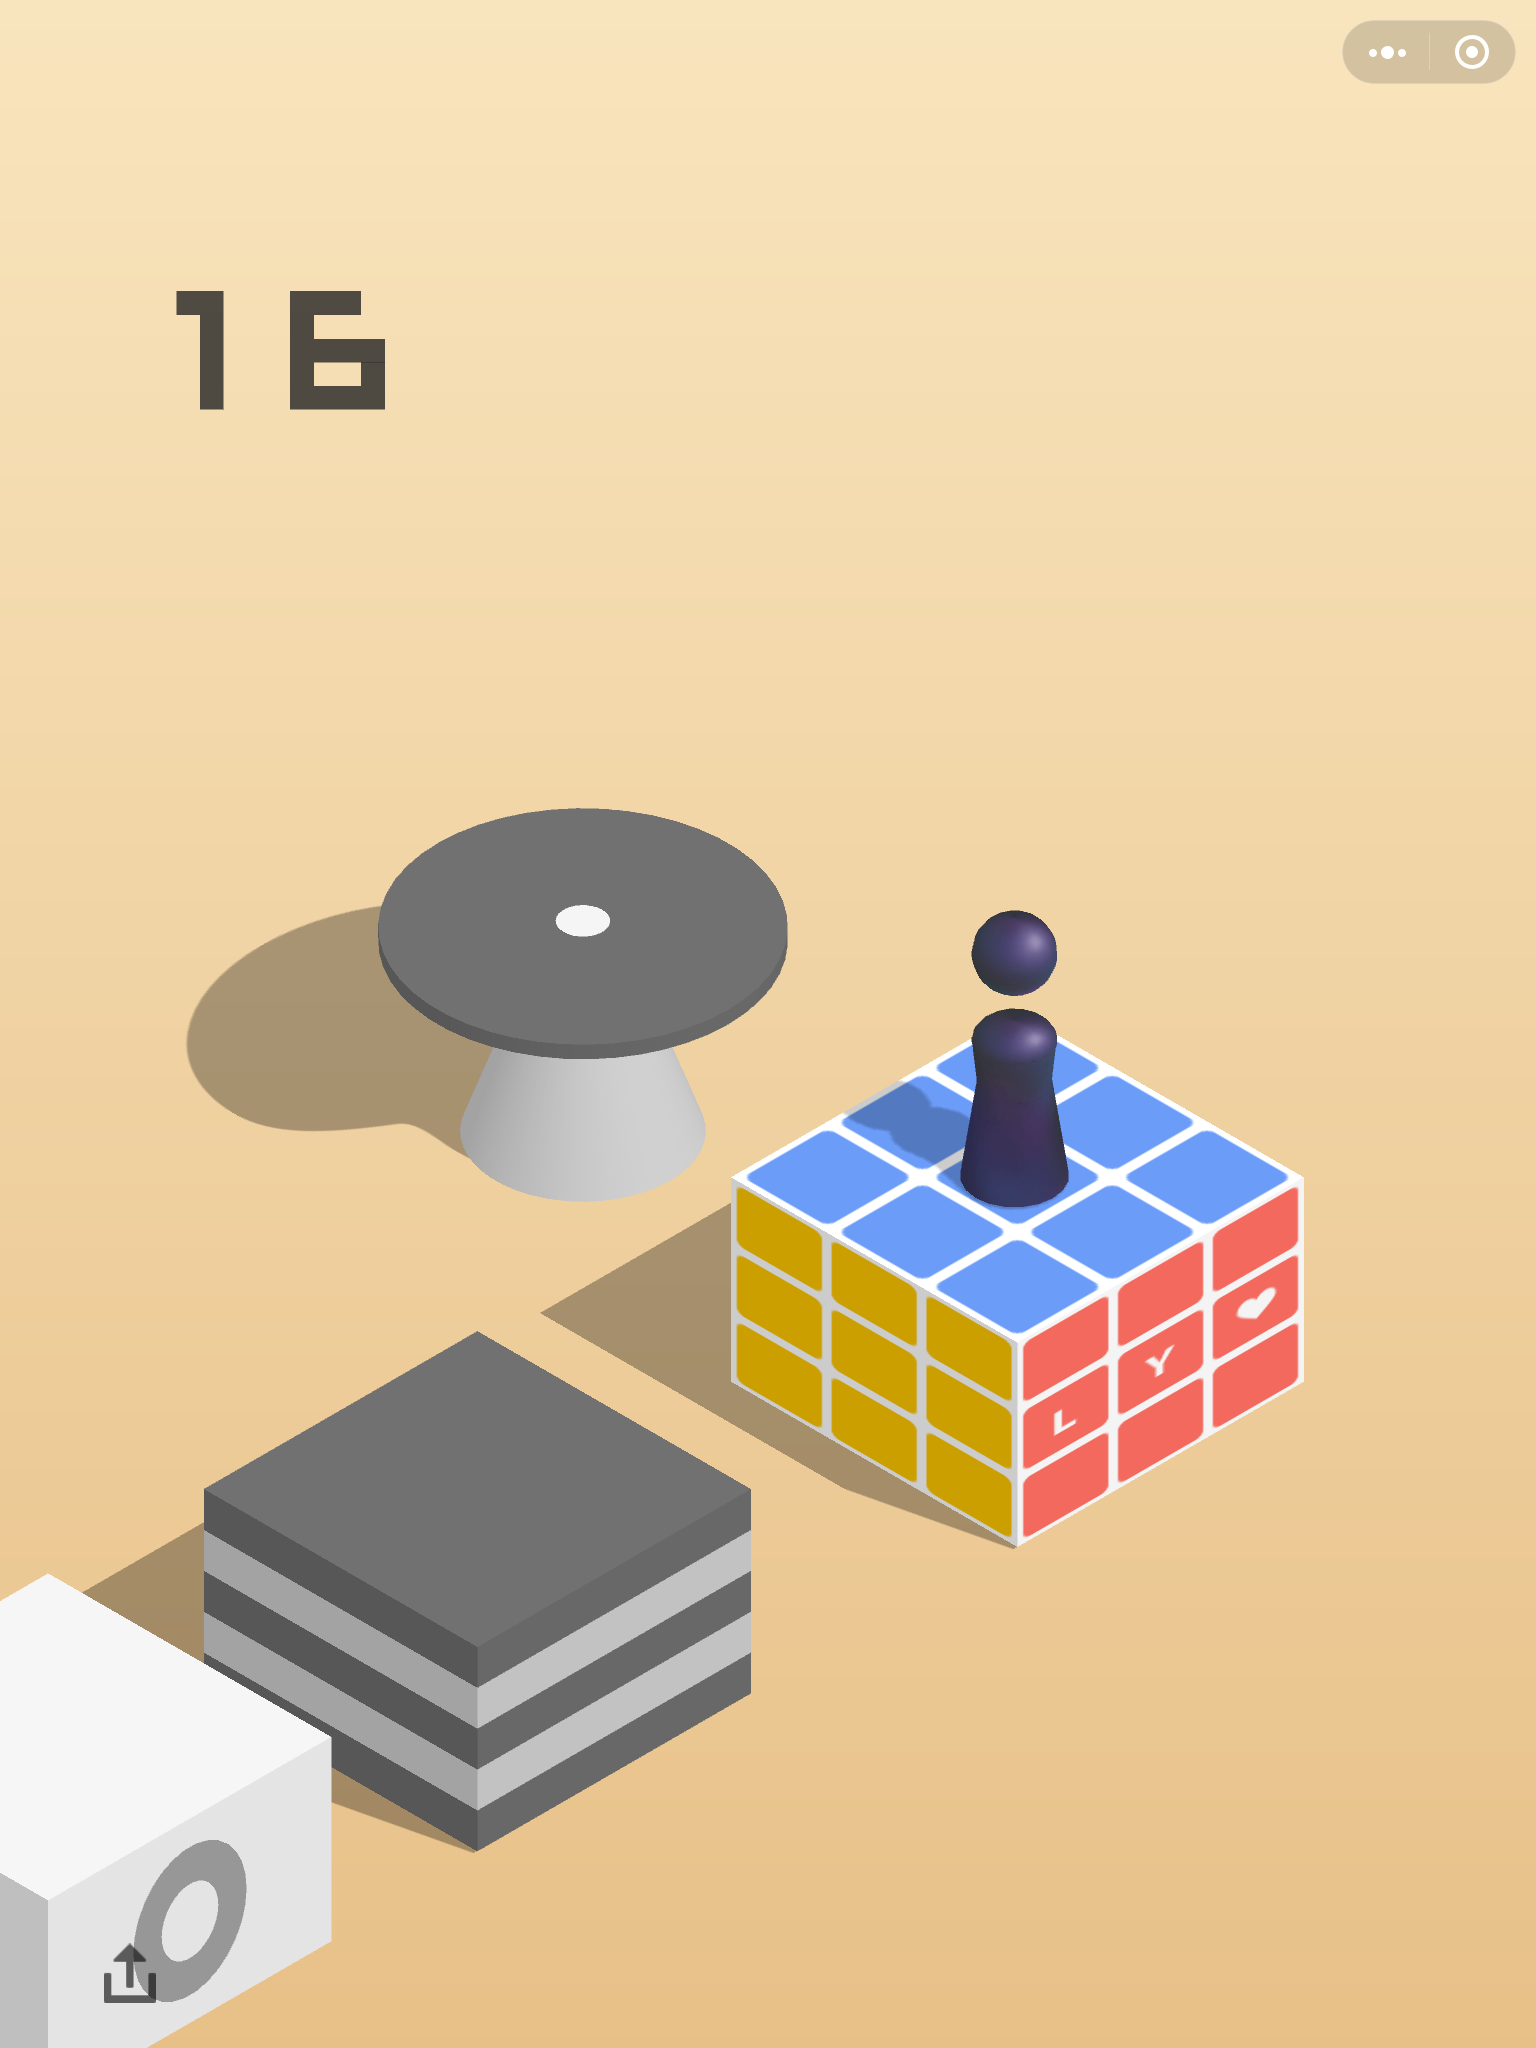c: (378, 785, 783, 1211)
f: (724, 1005, 1312, 1551), (195, 1326, 765, 1863), (2, 1566, 347, 2048)
r: (957, 905, 1078, 1214)
